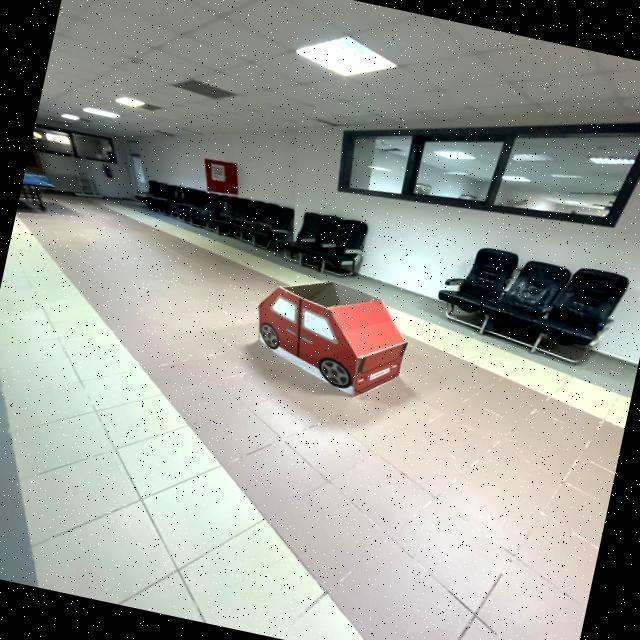red_car: (228, 260, 433, 415)
